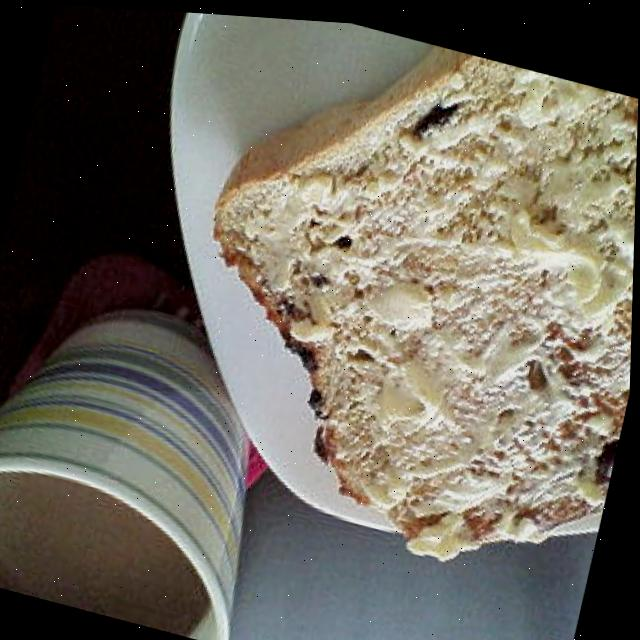面包点心: (162, 9, 640, 583)
